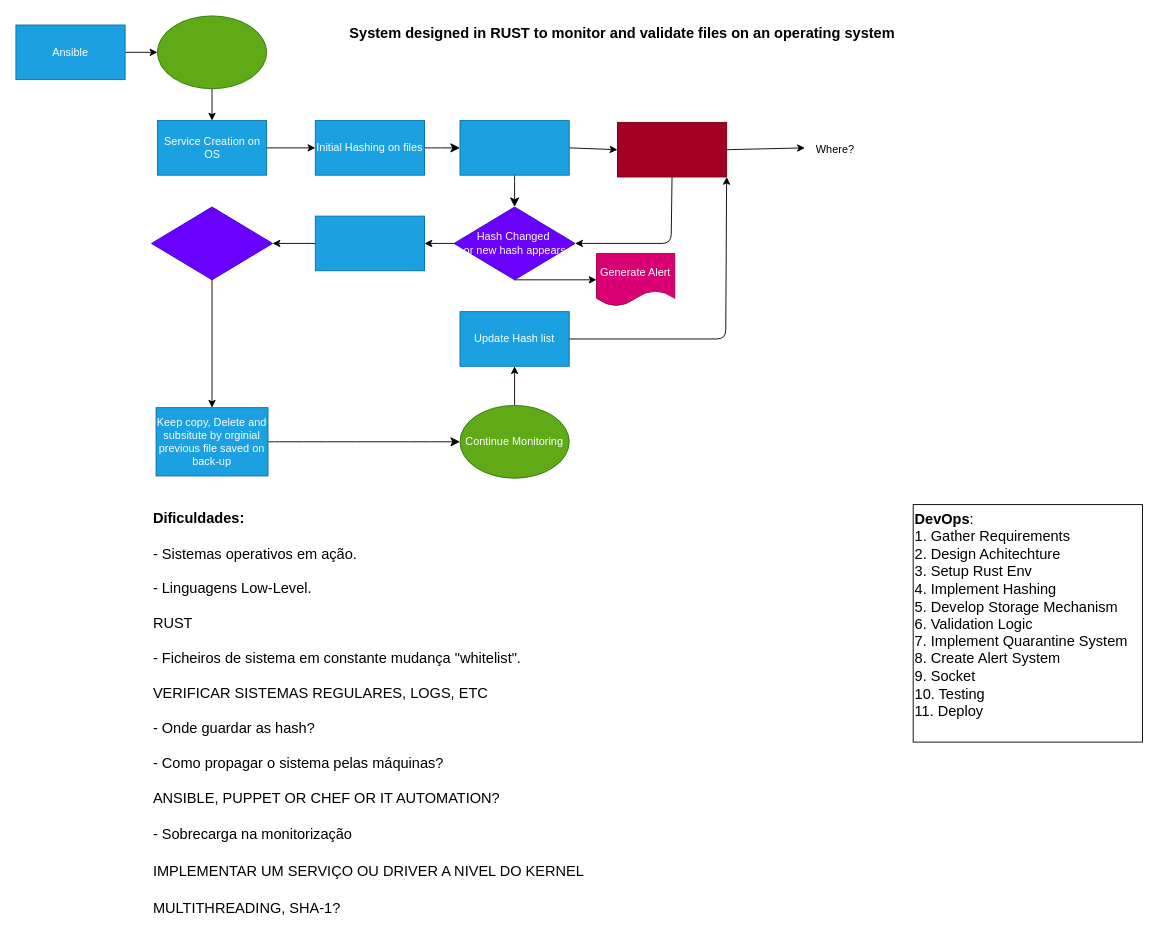
This 1158x937 diagram has some shape labels left out. Here are the shapes that lost their labels. From the top down, the box of each, then its label:
(157, 15, 267, 89): System Start-up
(459, 120, 569, 175): Hash back-up, generates copies of files
(617, 121, 727, 177): Hashes stored
(151, 206, 273, 280): File Validation on Quarantine section
(314, 215, 425, 271): Kill the service if running and move to quarantine section
